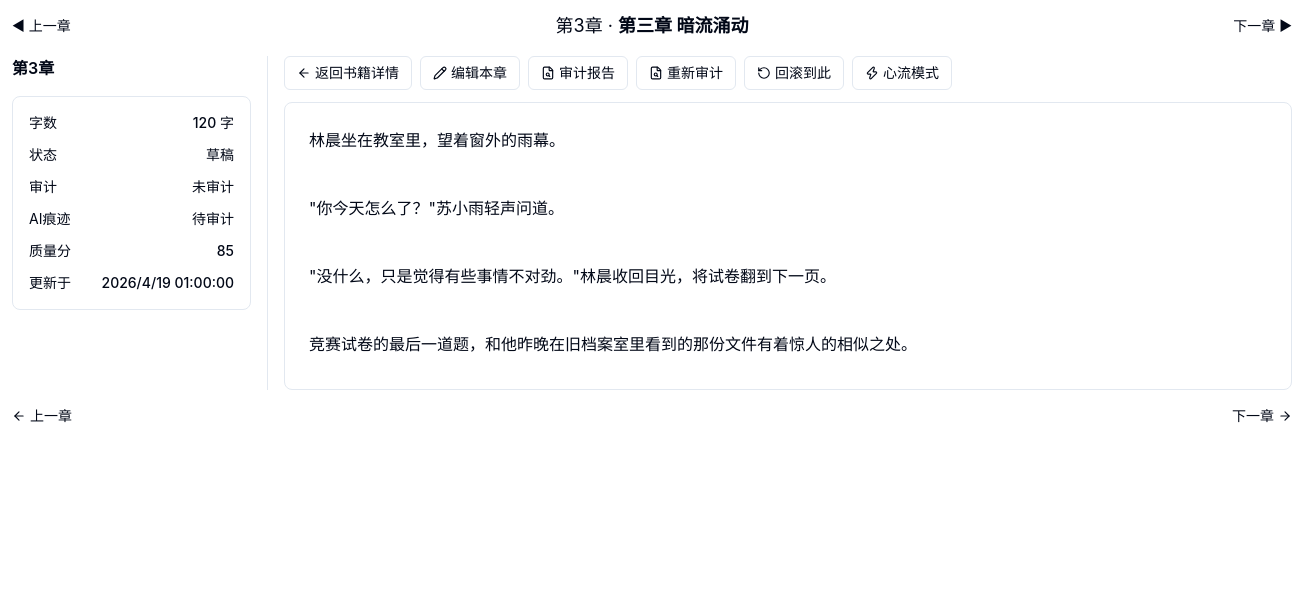
ChapterReader Page › toggles edit mode when clicking edit button
Check: the heading "第3章 · 第三章 暗流涌动" is shown, box [556,12,748,40]
Click the button titled "编辑" at (470,73), box [420,56,520,90]
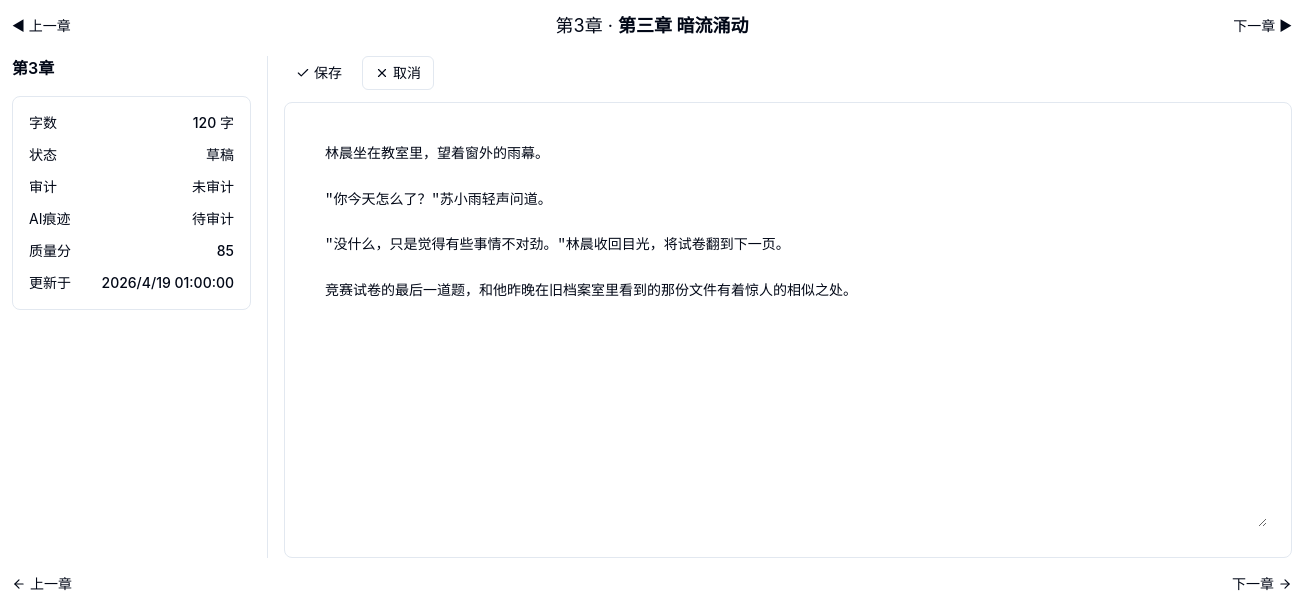
Check: the text box is shown, box [309,127,1267,527]
